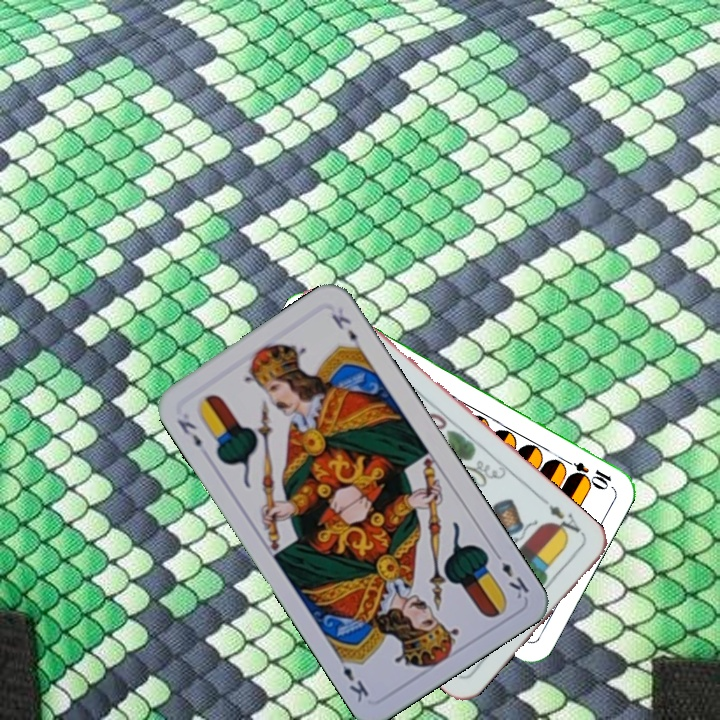E10: (558, 454, 614, 491)
EA: (538, 494, 587, 541)
EK: (489, 547, 532, 602), (172, 415, 205, 450)
